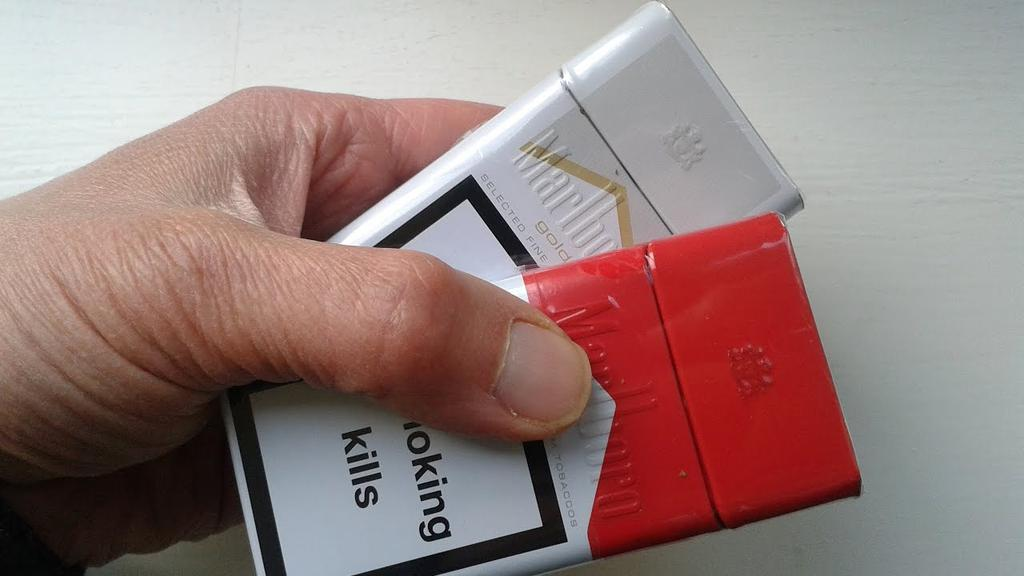marlboro_gold: (350, 54, 728, 279)
marlboro_red: (242, 251, 814, 531)
